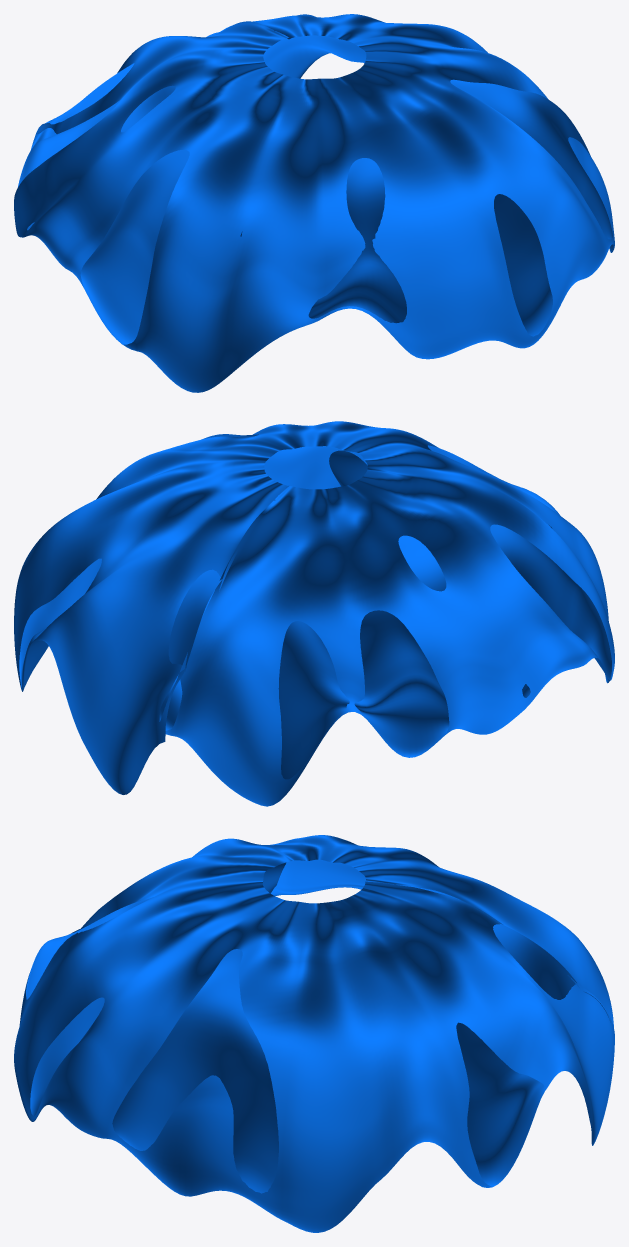
The model's file is water.fbx.
3 renders of one model, top to bottom at view 1: azimuth 30°, elevation 25°; view 2: azimuth 150°, elevation 25°; view 3: azimuth 270°, elevation 25°, orthographic.
Visible parts, largest first — view 1: Plane002; view 2: Plane002; view 3: Plane002.
Boxes of the visible parts, x1,y1,x2,y2 form: Plane002: (14, 14, 614, 392); Plane002: (14, 421, 614, 806); Plane002: (14, 835, 614, 1232).
Size of the model in its own units: 13334 by 5867 by 13444.
